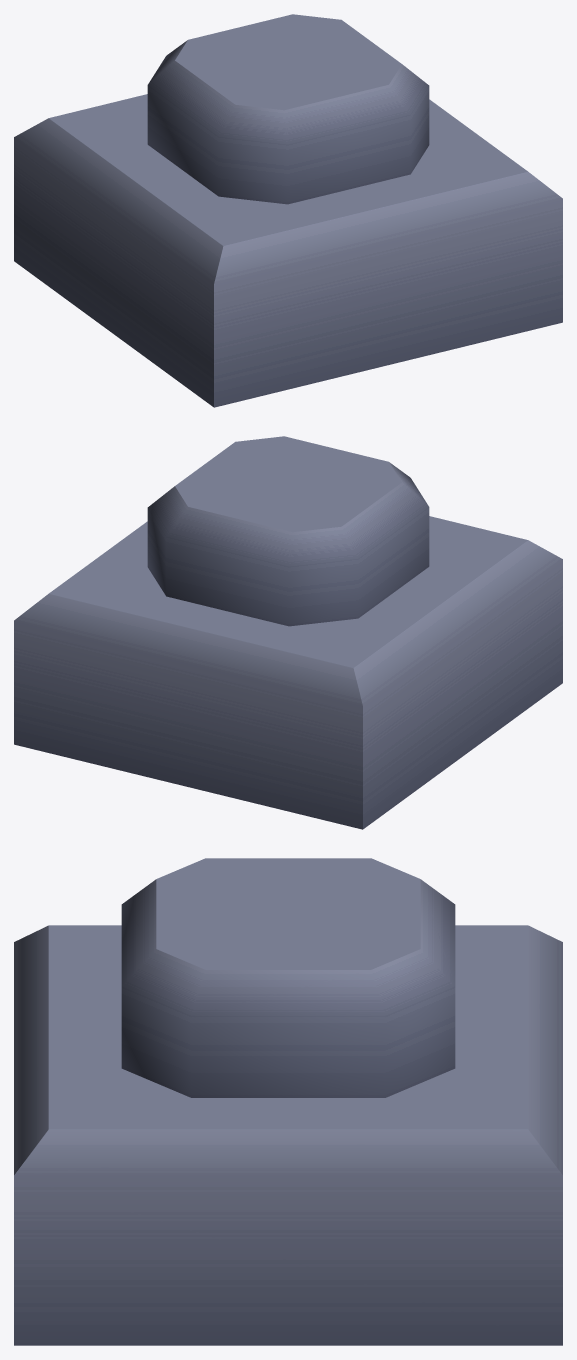
File: rock_1.glb
3 renders of one model, top to bottom at view 1: azimuth 30°, elevation 25°; view 2: azimuth 150°, elevation 25°; view 3: azimuth 270°, elevation 25°, orthographic. The views are drawn at different scales.
Visible parts, largest first — view 1: rock_1; view 2: rock_1; view 3: rock_1.
Boxes of the visible parts, bbox=[...] form: rock_1: bbox=[14, 14, 562, 407]; rock_1: bbox=[14, 436, 562, 829]; rock_1: bbox=[14, 858, 562, 1345].
Bounding box in the file's own units: 0.0795 × 0.05 × 0.079.
Materials: 1 (1 with a texture image).
